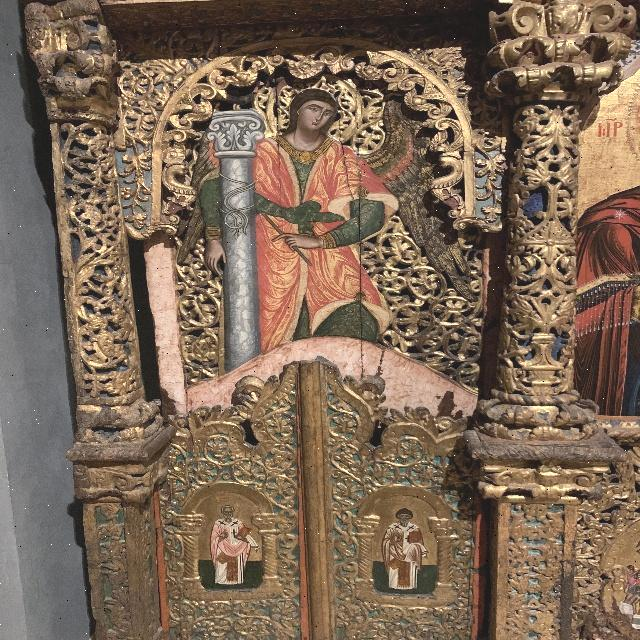angel: (178, 69, 483, 370)
aura: (264, 67, 368, 133)
church_father: (204, 496, 257, 584), (383, 502, 427, 590)
wing: (365, 92, 474, 299), (176, 113, 217, 267)
